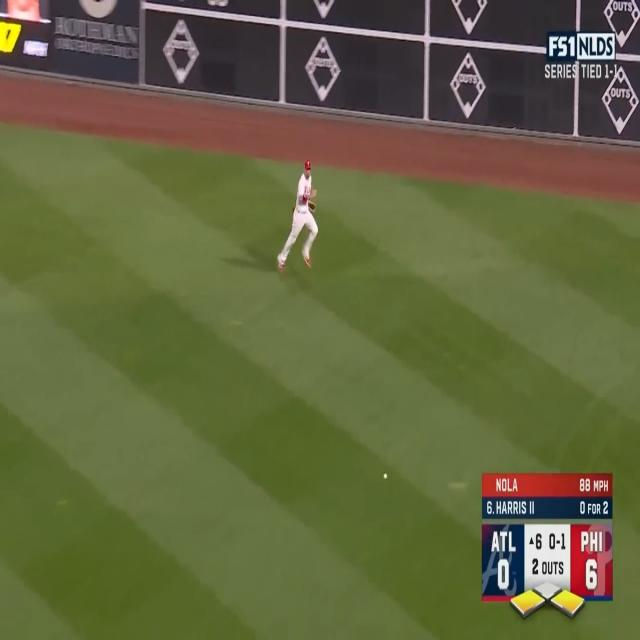baseball: (383, 472, 388, 480)
